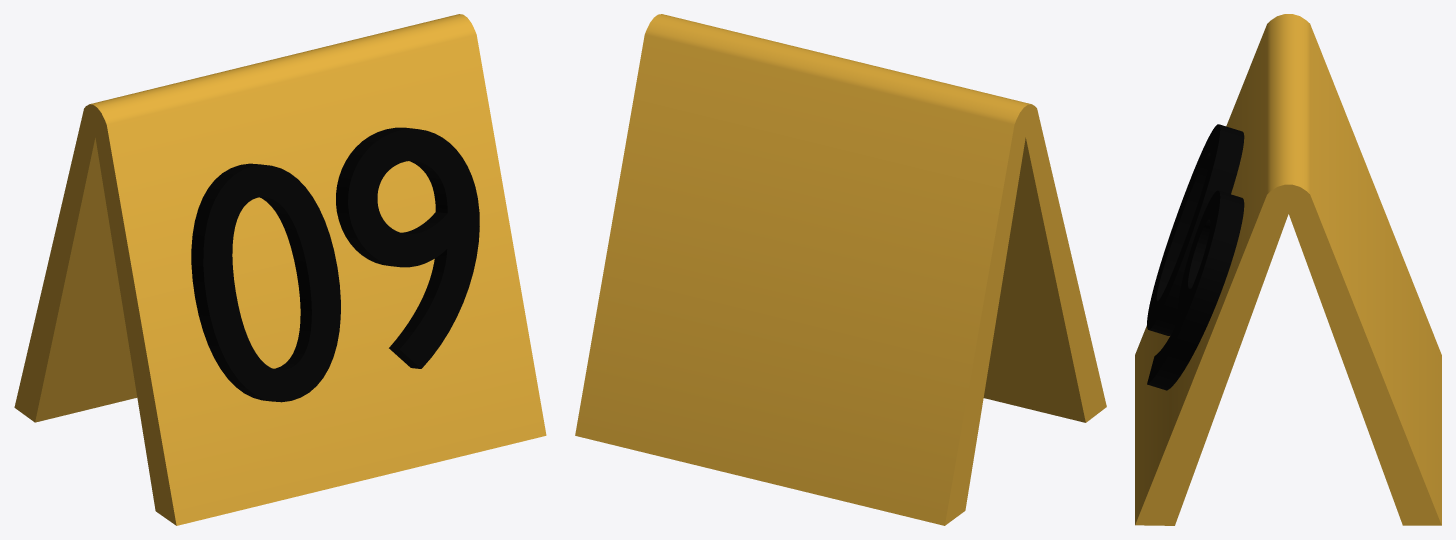
3 renders of one model, left to right at view 1: azimuth 30°, elevation 25°; view 2: azimuth 150°, elevation 25°; view 3: azimuth 270°, elevation 25°, orthographic. The views are drawn at different scales.
Parts seen in each view (by area): view 1: Bordje, Text.008; view 2: Bordje; view 3: Bordje, Text.008.
Part boxes in pixels (x1,y1,x2,y2): Bordje: (14, 14, 546, 525); Text.008: (191, 127, 479, 402); Bordje: (575, 14, 1106, 525); Bordje: (1135, 14, 1441, 525); Text.008: (1147, 124, 1244, 390).
Bounding box in the file's own units: 342 × 319 × 260.
